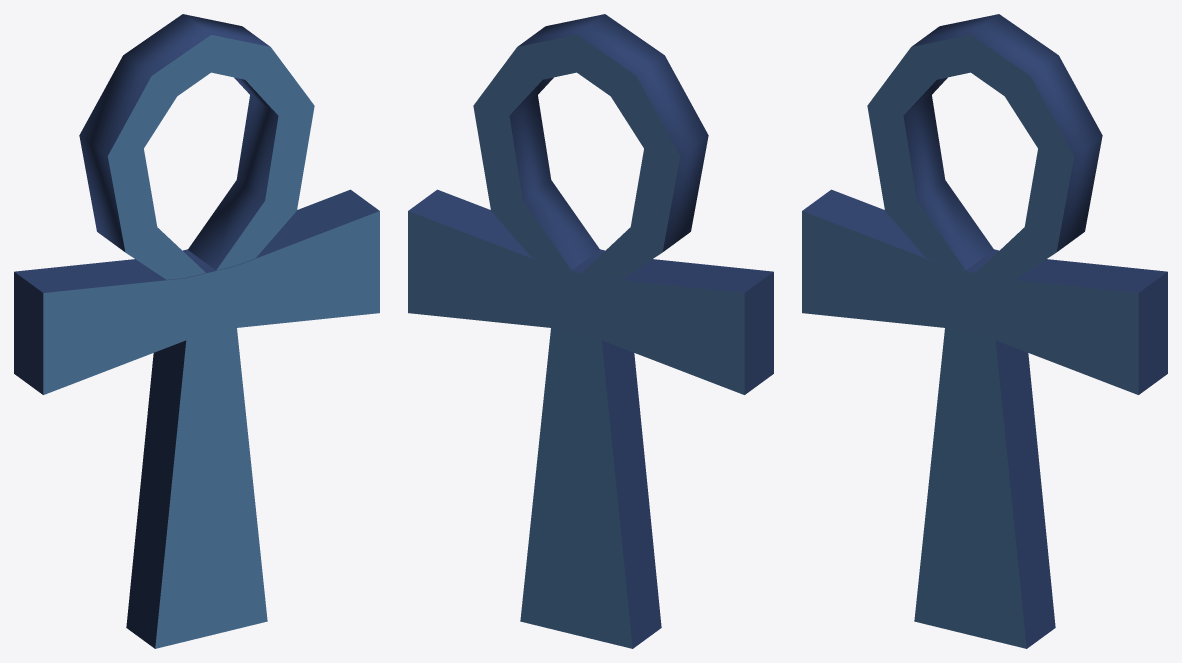
The model's file is Ankh Blue.fbx.
3 views of the same model, side by side, from view 1: azimuth 30°, elevation 25°; view 2: azimuth 150°, elevation 25°; view 3: azimuth 330°, elevation 25° (orthographic).
Visible parts, largest first — view 1: Ankh Blue; view 2: Ankh Blue; view 3: Ankh Blue.
Part boxes in pixels (x1=…): Ankh Blue: x1=14, y1=14, x2=379, y2=648; Ankh Blue: x1=408, y1=14, x2=773, y2=648; Ankh Blue: x1=802, y1=14, x2=1167, y2=648.
Bounding box in the file's own units: 2.06 × 0.3106 × 3.52.
1 material, 1 textured.
